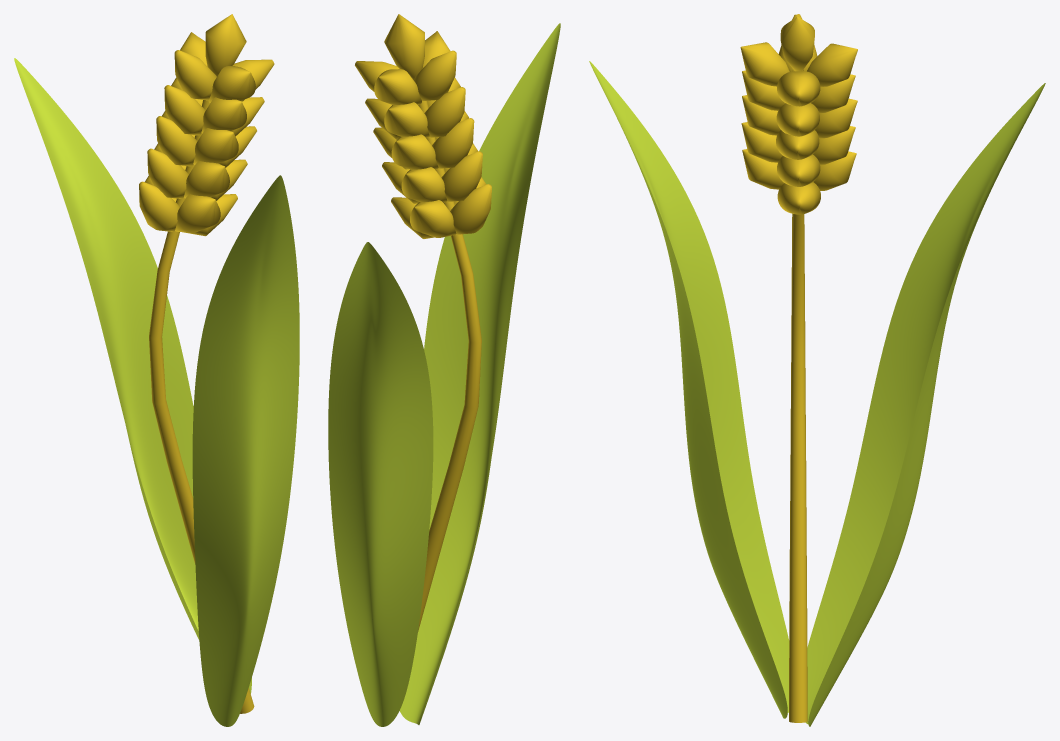
The model's file is WQ_Wheat Asset non animated1.fbx.
3 views of the same model, side by side, from view 1: azimuth 30°, elevation 25°; view 2: azimuth 150°, elevation 25°; view 3: azimuth 270°, elevation 25° (orthographic).
Visible parts, largest first — view 1: Vert.001; view 2: Vert.001; view 3: Vert.001.
Boxes of the visible parts, box(x1,y1,x2,y2) form: Vert.001: box(14, 14, 299, 726); Vert.001: box(328, 14, 560, 726); Vert.001: box(589, 14, 1045, 726).
Bounding box in the file's own units: 196 × 961 × 564.
